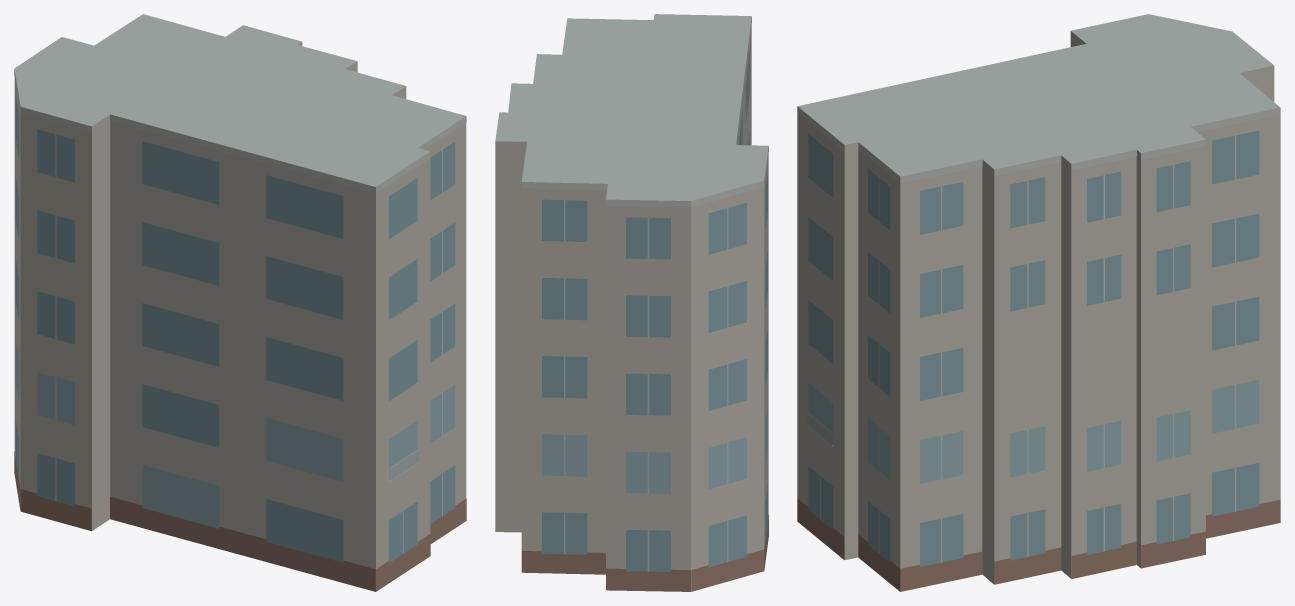
Rendered from survey-upis-32689073.glb.
The picture shows the model from 3 angles, left to right: view 1: azimuth 30°, elevation 25°; view 2: azimuth 150°, elevation 25°; view 3: azimuth 270°, elevation 25°; orthographic projection. The views are drawn at different scales.
Parts seen in each view (by area): view 1: survey-upis-32689073.tmp; view 2: survey-upis-32689073.tmp; view 3: survey-upis-32689073.tmp.
Boxes of the visible parts, x1,y1,x2,y2 form: survey-upis-32689073.tmp: (14,14,466,591); survey-upis-32689073.tmp: (495,14,768,591); survey-upis-32689073.tmp: (797,14,1280,591).
Bounding box in the file's own units: 12.61 × 15 × 15.83.
